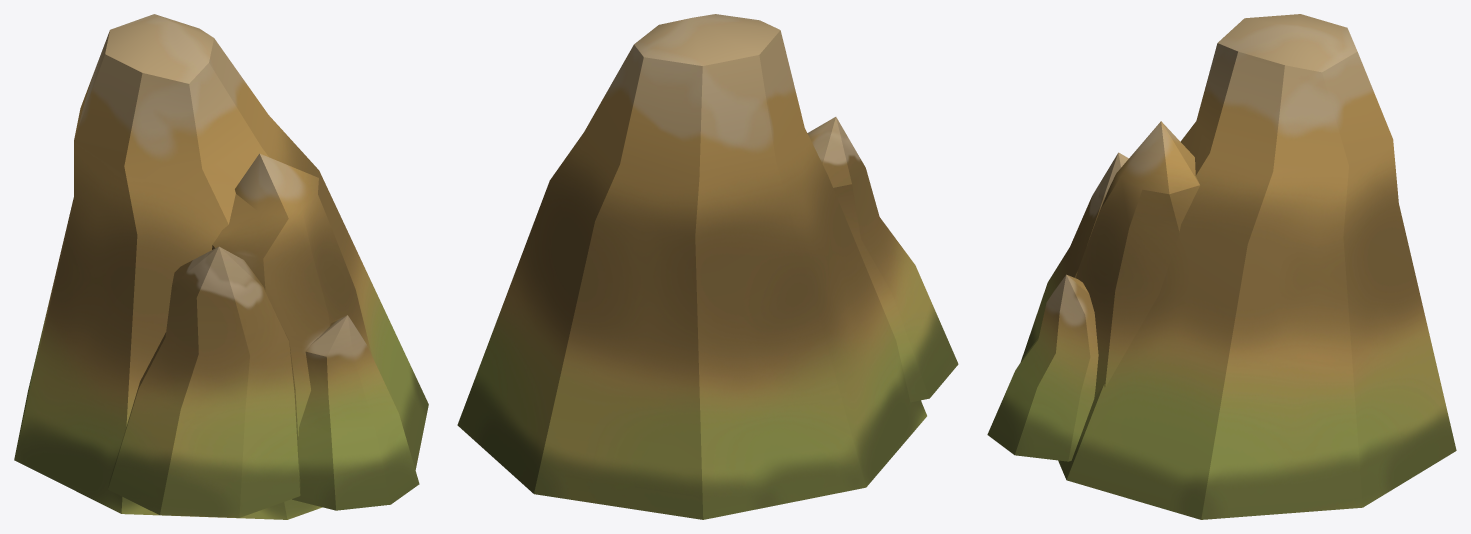
Rendered from Montanhas.fbx.
3 renders of one model, left to right at view 1: azimuth 30°, elevation 25°; view 2: azimuth 150°, elevation 25°; view 3: azimuth 270°, elevation 25°, orthographic. The views are drawn at different scales.
Visible parts, largest first — view 1: CADEIA DE MONTANHAS; view 2: CADEIA DE MONTANHAS; view 3: CADEIA DE MONTANHAS.
Boxes of the visible parts, x1=… form: CADEIA DE MONTANHAS: x1=14, y1=14, x2=428, y2=519; CADEIA DE MONTANHAS: x1=457, y1=14, x2=958, y2=519; CADEIA DE MONTANHAS: x1=987, y1=14, x2=1456, y2=519.
Size of the model in its own units: 5536 by 5709 by 6199.
